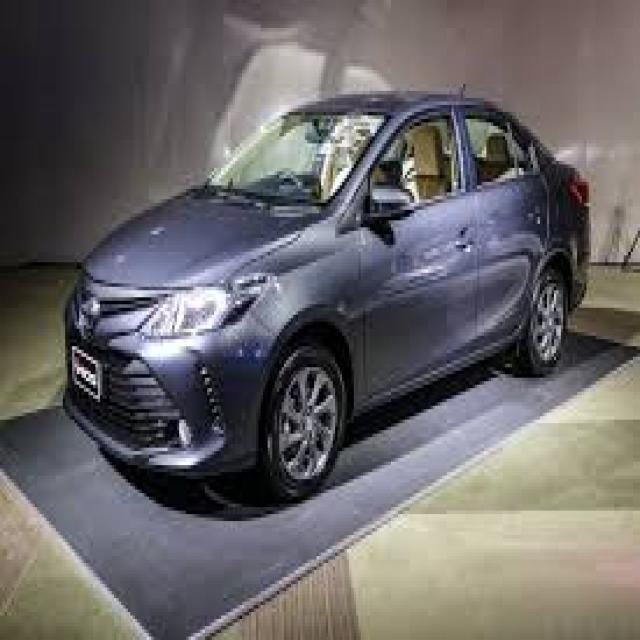ToyotaVios: (61, 84, 591, 504)
